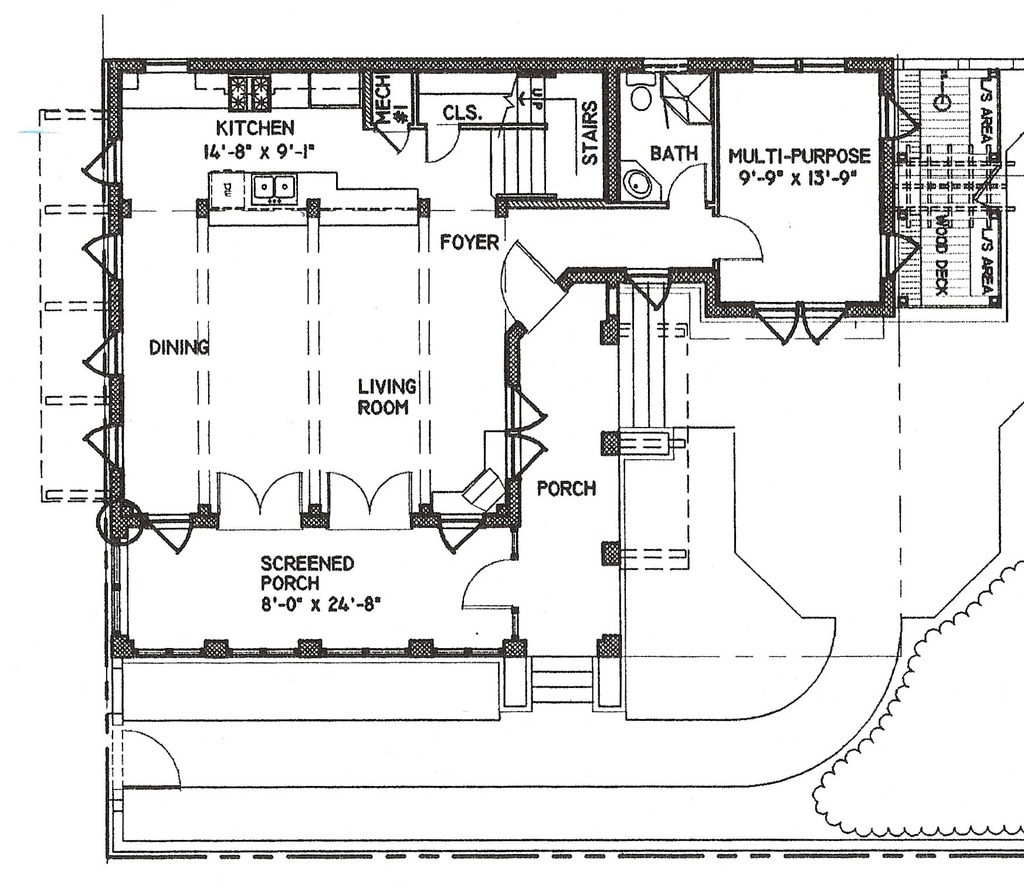door: (496, 238, 567, 325), (115, 724, 187, 797), (324, 470, 418, 518), (749, 303, 847, 346), (459, 554, 528, 614), (211, 469, 305, 513), (712, 208, 767, 267), (513, 392, 548, 476), (665, 160, 716, 206), (422, 121, 460, 164)
large_sink: (624, 68, 660, 116)
twin_sink: (251, 171, 302, 206)
